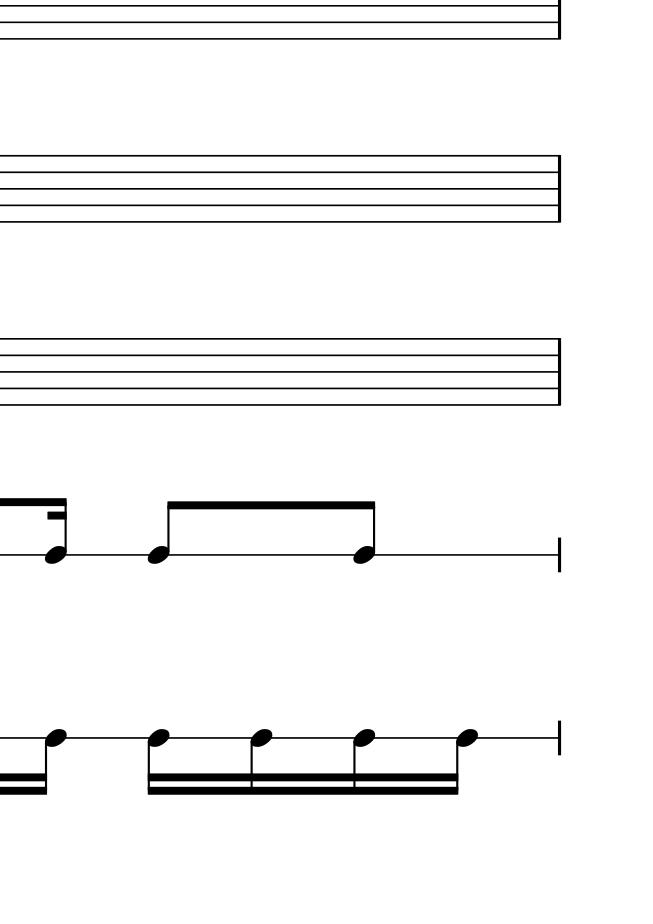16_4: (443, 729, 478, 795), (34, 728, 69, 794), (45, 495, 70, 565), (146, 728, 171, 798), (248, 727, 273, 797), (351, 727, 376, 797)
8_4: (147, 499, 180, 565), (352, 499, 378, 565)
Single_barline: (551, 155, 567, 222), (551, 339, 567, 405)
